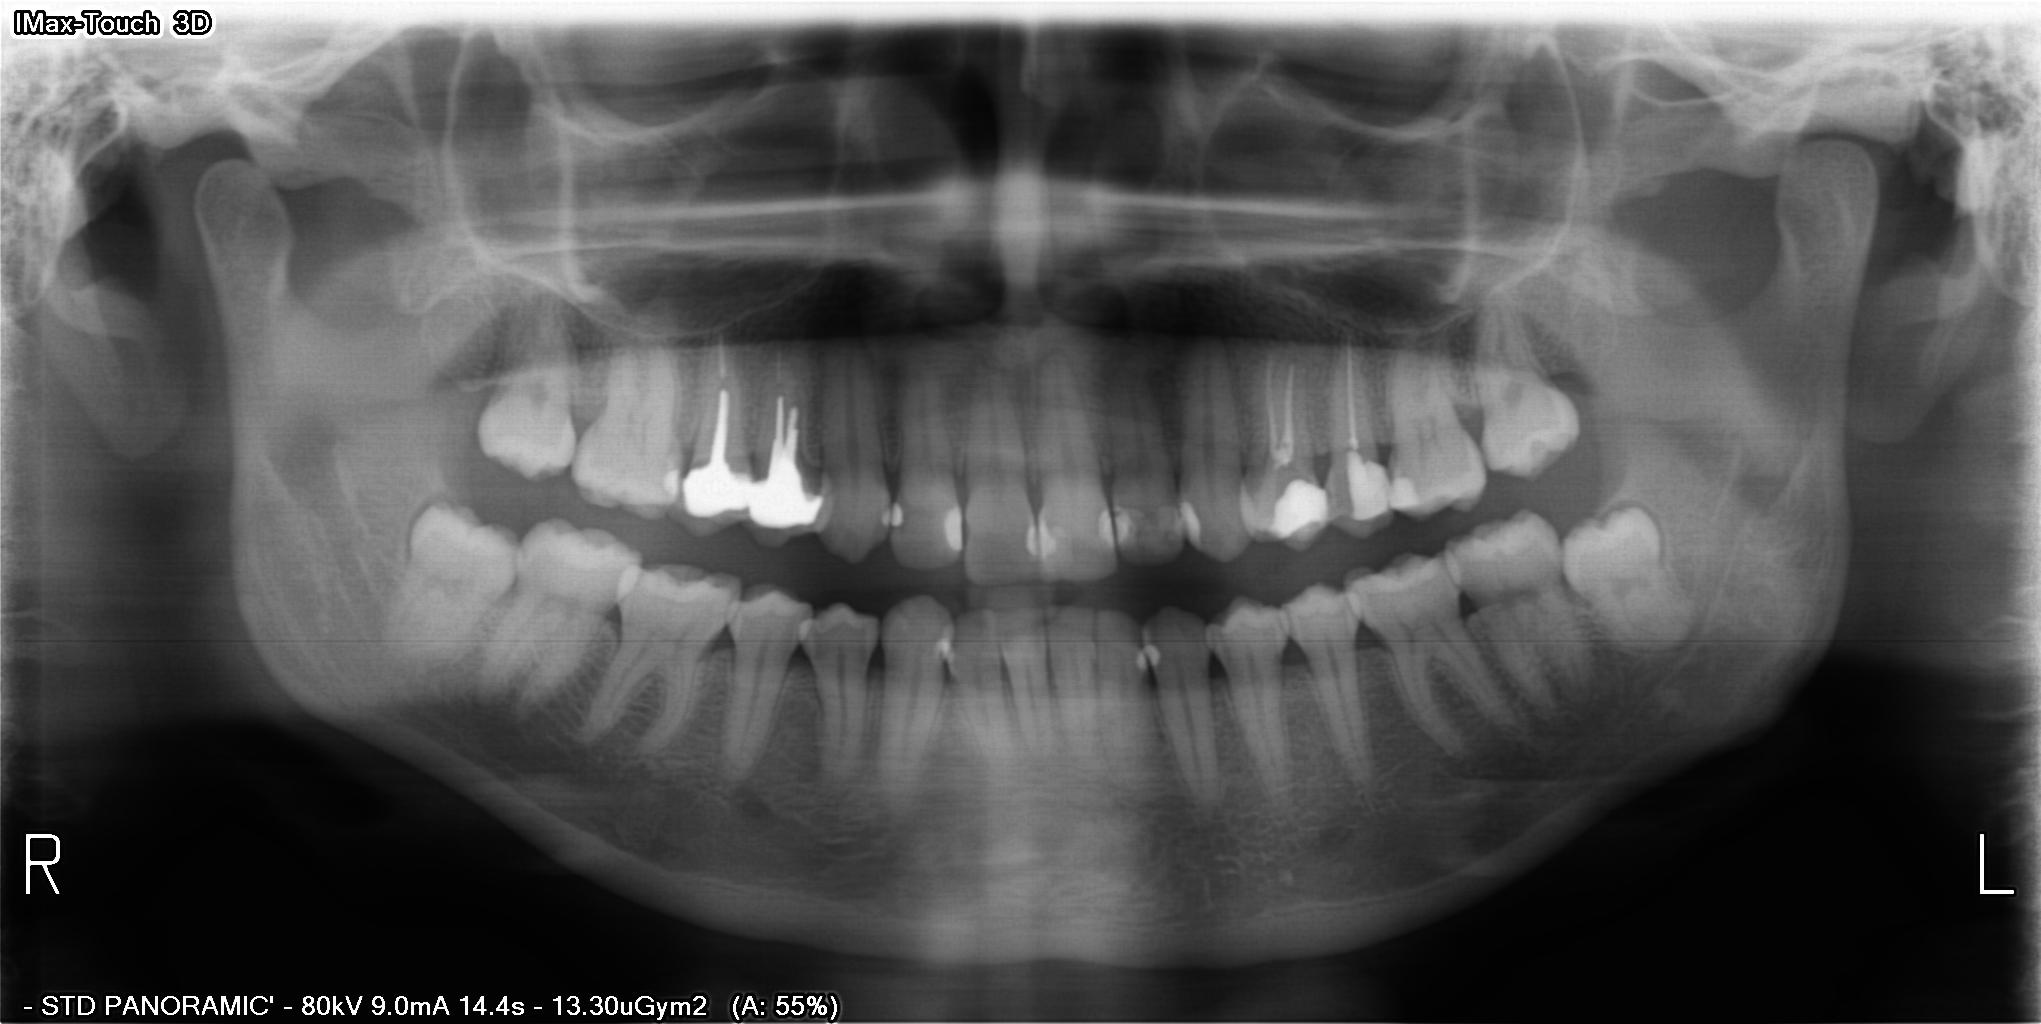Çürük: (744, 473, 831, 537), (679, 462, 750, 525), (1271, 481, 1335, 545), (1345, 453, 1388, 519), (1384, 475, 1418, 512), (944, 500, 964, 556), (657, 472, 689, 504), (1097, 509, 1128, 541), (1029, 526, 1051, 558), (1131, 648, 1154, 675), (879, 502, 902, 528), (1144, 644, 1161, 674)
Çürük Bölgesi: (1021, 519, 1039, 572), (961, 512, 975, 552)
